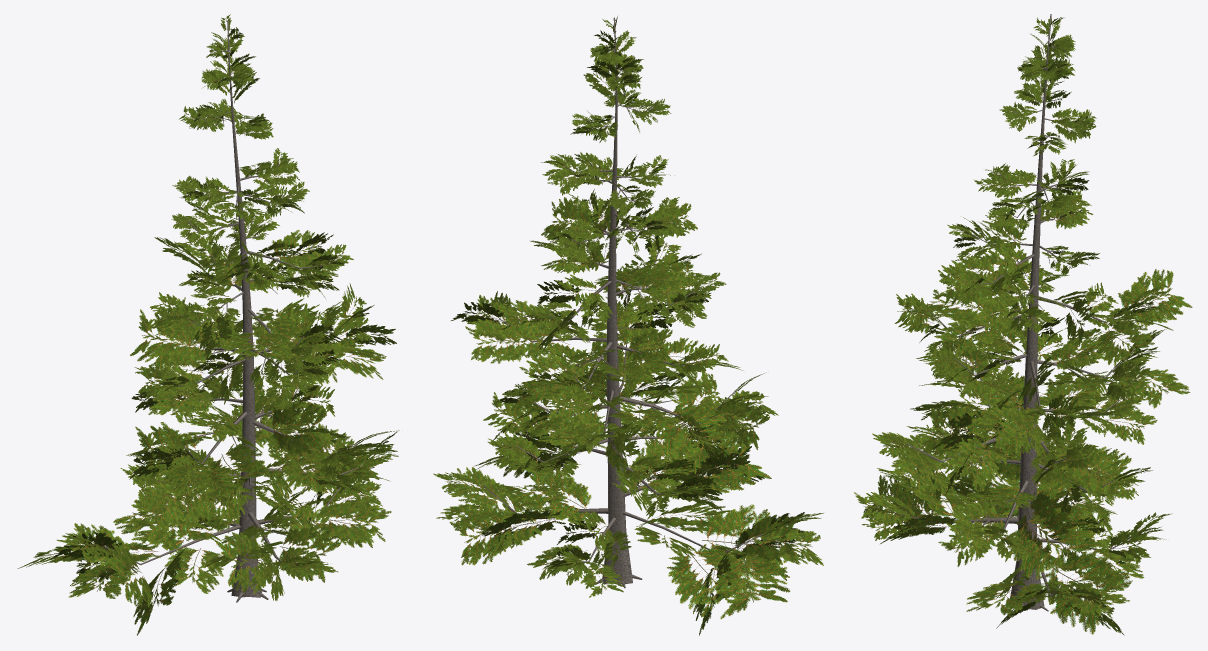
File: NorwaySpruce.fbx
The picture shows the model from 3 angles, left to right: view 1: azimuth 30°, elevation 25°; view 2: azimuth 150°, elevation 25°; view 3: azimuth 270°, elevation 25°; orthographic projection. The views are drawn at different scales.
Visible parts, largest first — view 1: Foliage, Bark; view 2: Foliage, Bark; view 3: Foliage, Bark.
Boxes of the visible parts, x1=… form: Foliage: x1=17, y1=14, x2=399, y2=635; Bark: x1=102, y1=20, x2=361, y2=602; Foliage: x1=433, y1=16, x2=823, y2=635; Bark: x1=483, y1=17, x2=762, y2=588; Foliage: x1=854, y1=17, x2=1192, y2=635; Bark: x1=898, y1=14, x2=1135, y2=613.
Bounding box in the file's own units: 13.77 × 21.1 × 11.06.
